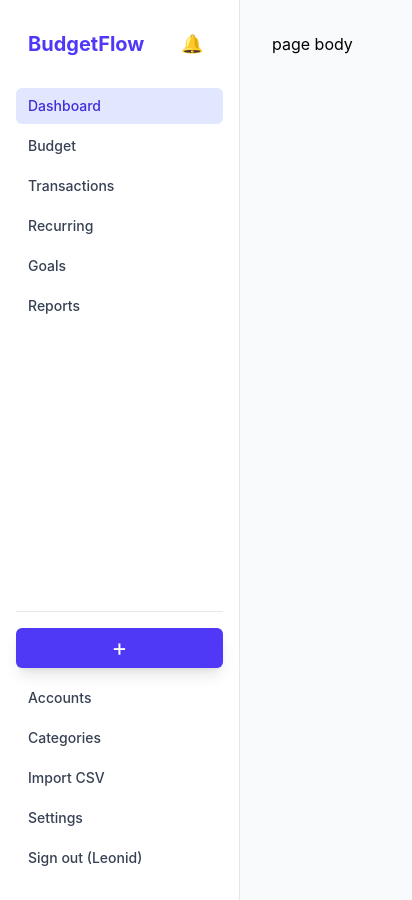
AppShell › returns to the top when navigating to another page
Click the link "Categories": [64, 738] box [28,729,101,746]
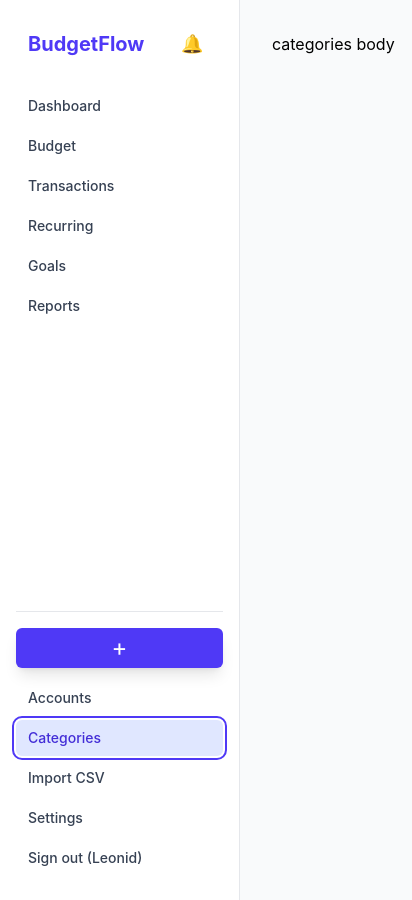
Expected: the text "categories body" is shown, [272,34,395,54]
